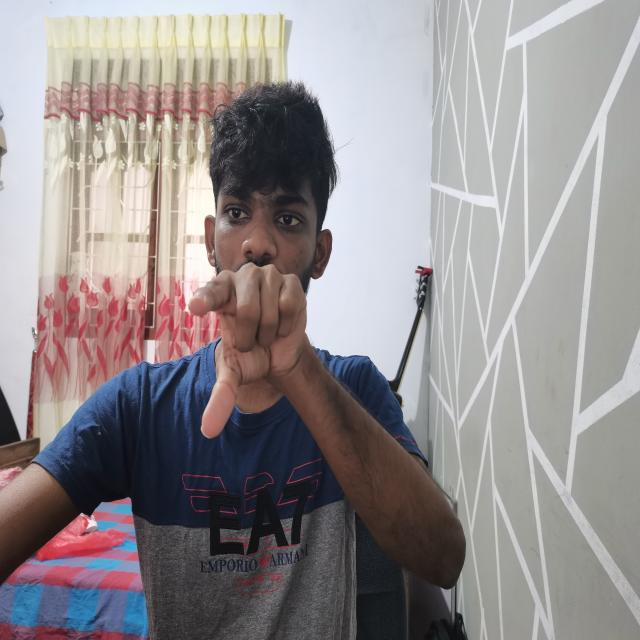No: (178, 265, 322, 456)
